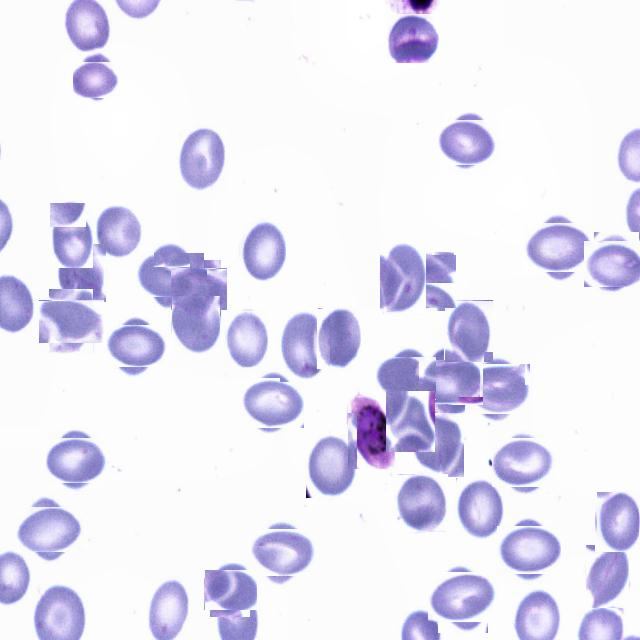difficult: (347, 395, 395, 469)
red blood cell: (280, 309, 330, 382), (529, 218, 589, 278), (433, 568, 493, 628), (410, 413, 464, 477), (468, 360, 526, 418), (20, 500, 78, 558), (140, 246, 198, 304), (243, 374, 300, 432), (398, 253, 456, 310), (421, 354, 478, 411), (178, 126, 227, 192), (380, 244, 426, 314), (306, 436, 356, 500), (501, 522, 557, 578), (496, 434, 552, 490), (254, 524, 310, 580), (440, 115, 496, 170), (395, 474, 448, 532), (444, 300, 493, 362), (386, 391, 435, 452), (44, 294, 99, 348), (456, 478, 504, 539), (239, 219, 286, 281), (50, 202, 94, 268), (172, 296, 220, 356), (588, 236, 640, 291), (58, 244, 106, 302), (96, 202, 144, 260), (49, 434, 102, 486), (317, 307, 361, 369), (586, 545, 629, 608), (110, 320, 162, 372), (380, 352, 432, 404), (596, 491, 640, 552), (386, 13, 439, 63), (174, 264, 224, 314), (226, 310, 268, 368), (206, 567, 254, 614), (76, 58, 119, 100)
